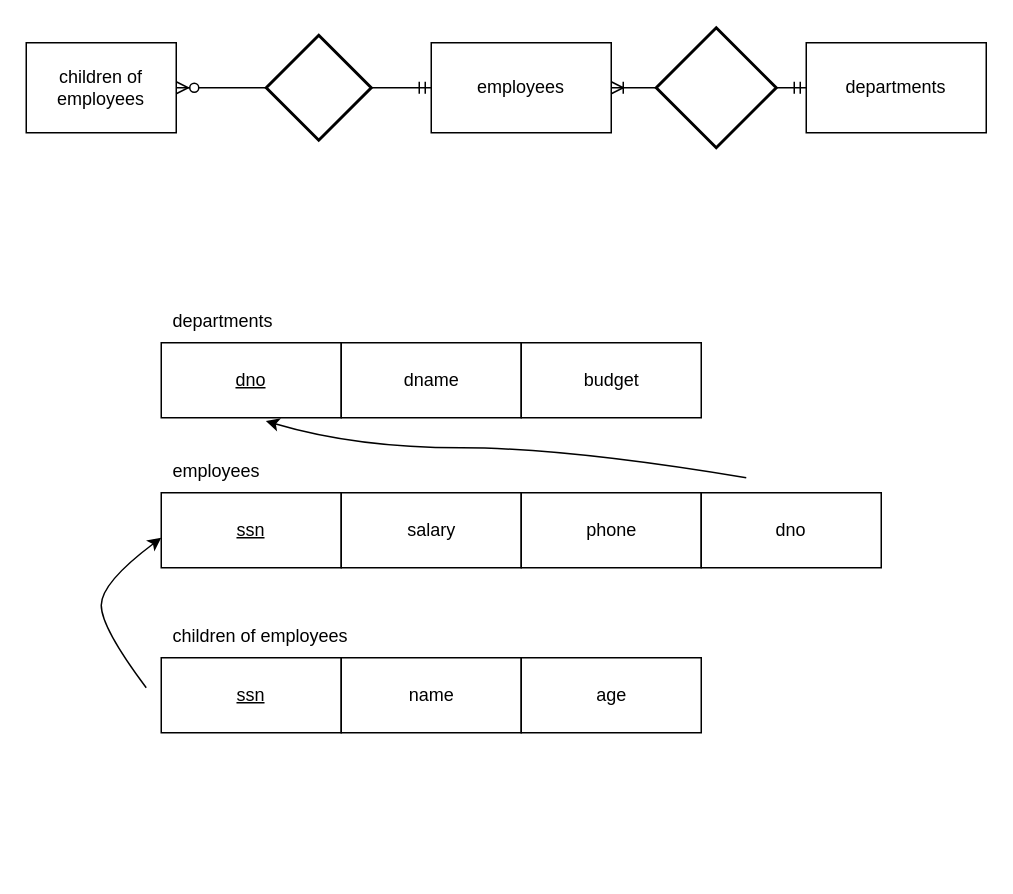
This 1013x894 diagram has some shape labels left out. Each missing label, with the centre of its shape:
children: the point at 318,87
manage: the point at 715,87
